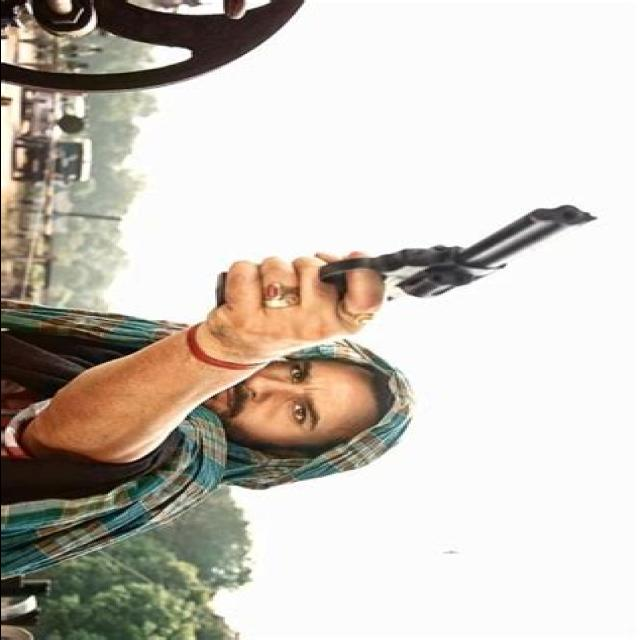weapons: (215, 198, 613, 312)
